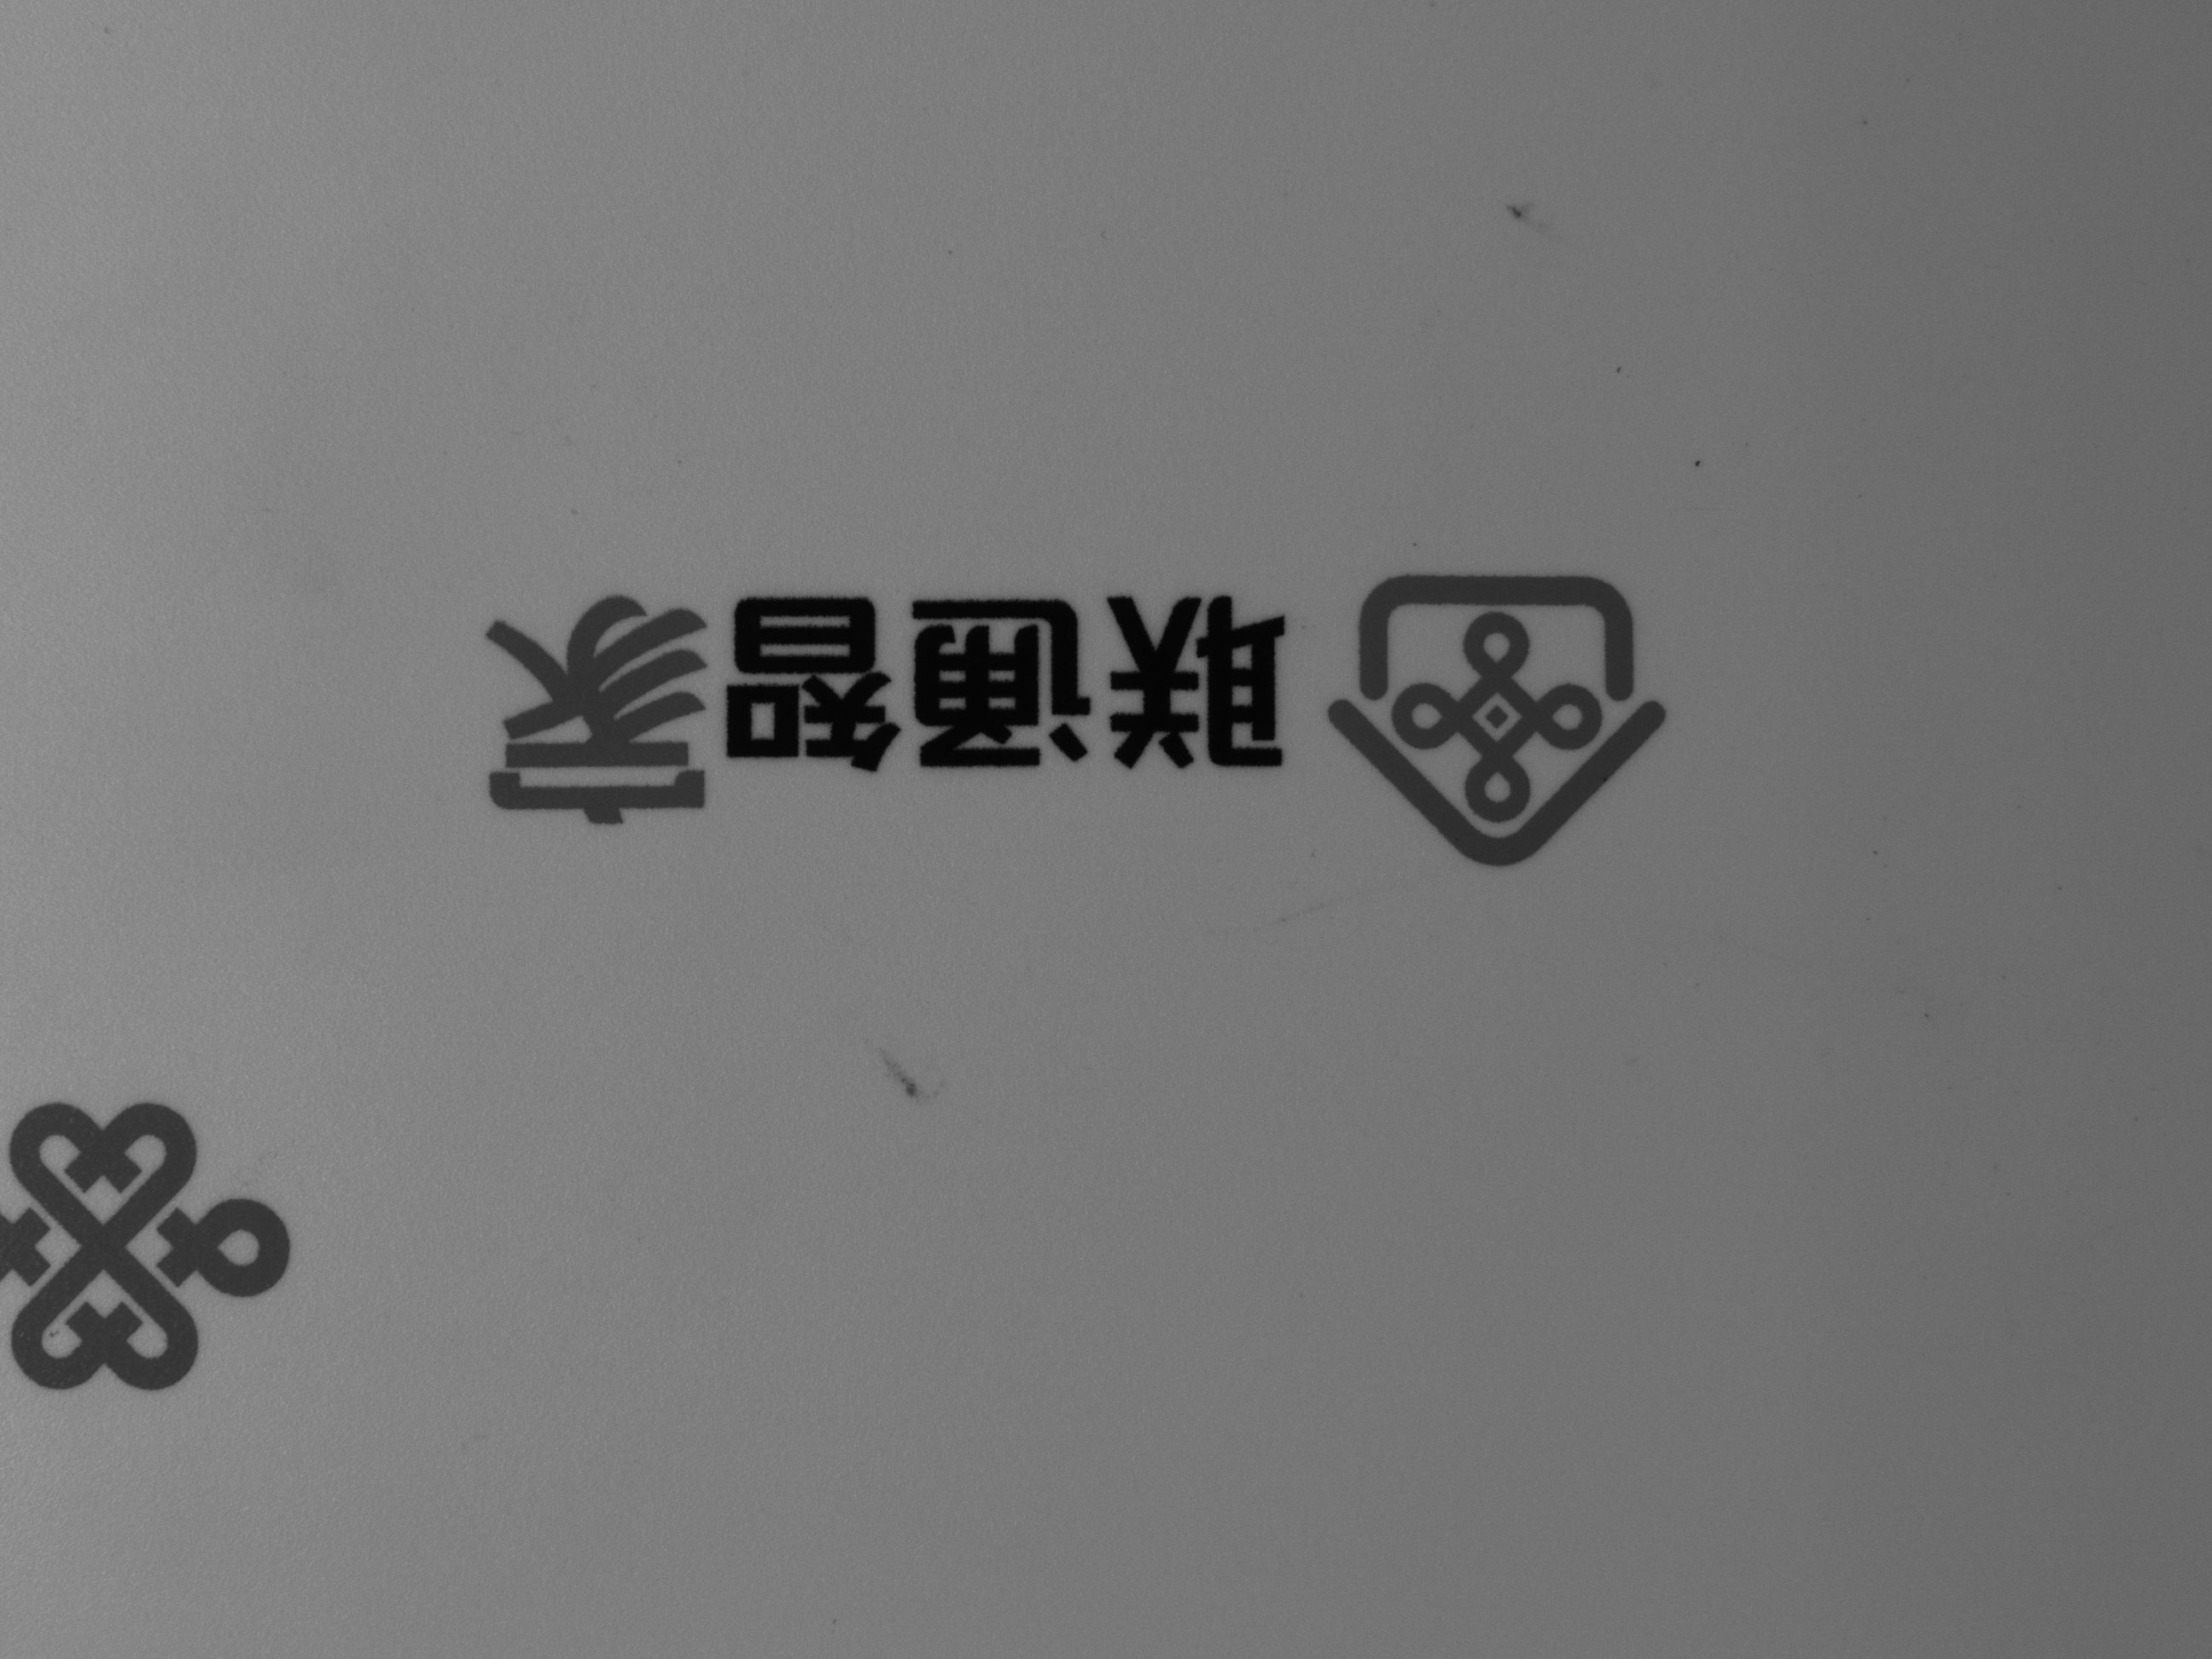BY_F6610Unicome: (425, 500, 1684, 873)
